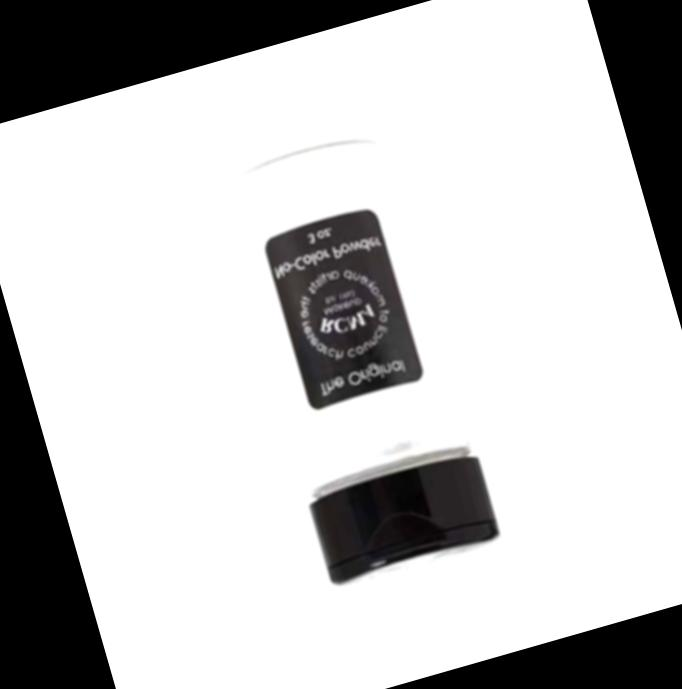cosmetic: (209, 130, 511, 590)
